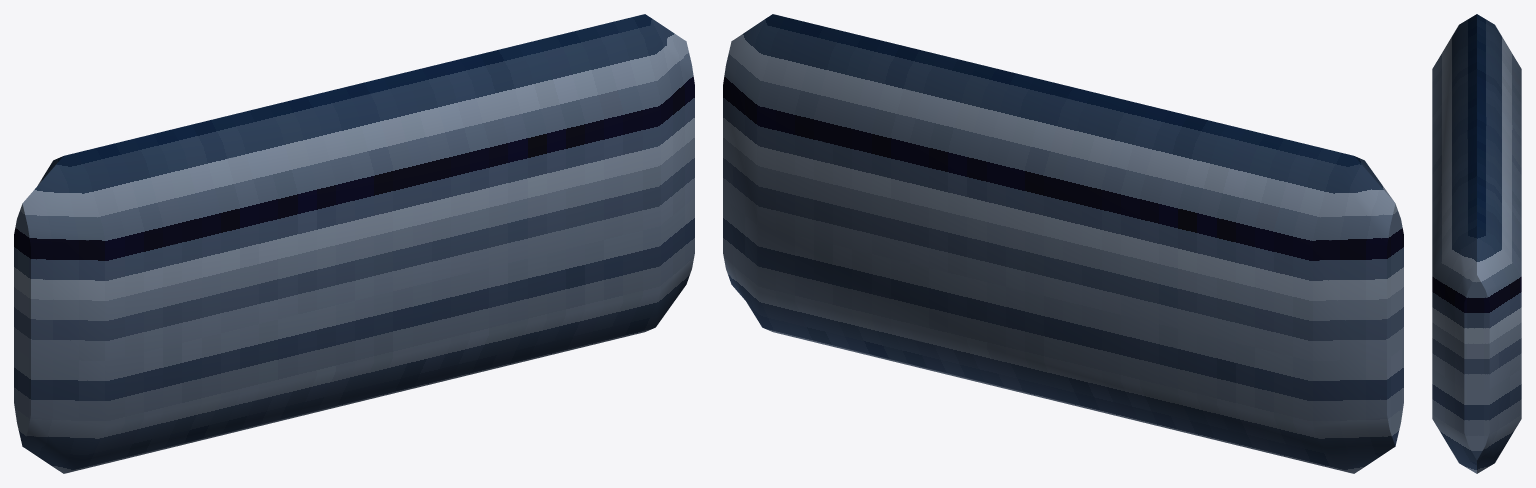
The model's file is Wide_pillow_thick.fbx.
3 renders of one model, left to right at view 1: azimuth 30°, elevation 25°; view 2: azimuth 150°, elevation 25°; view 3: azimuth 270°, elevation 25°, orthographic. The views are drawn at different scales.
Parts seen in each view (by area): view 1: thick_rectangle; view 2: thick_rectangle; view 3: thick_rectangle.
Boxes of the visible parts, x1,y1,x2,y2 form: thick_rectangle: (14,14,694,473); thick_rectangle: (723,14,1403,473); thick_rectangle: (1432,14,1521,473).
Bounding box in the file's own units: 208 × 95.36 × 31.67.
1 material, 1 textured.
